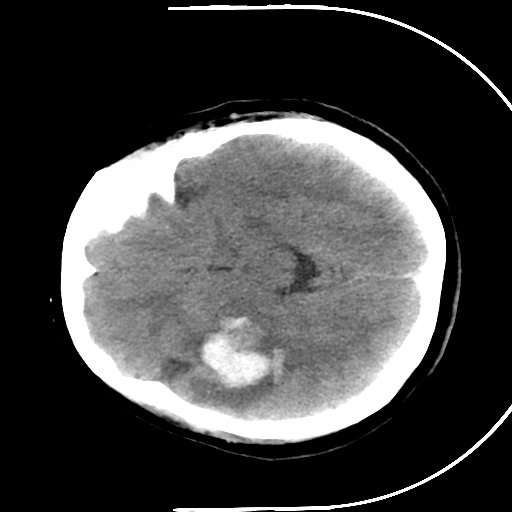a: (178, 290, 309, 415)
